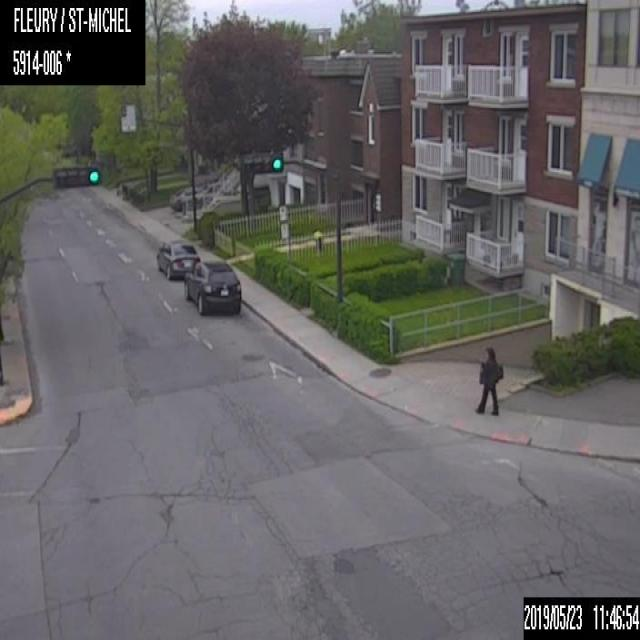pedestrian: (475, 345, 503, 415)
vehicle: (182, 259, 240, 314), (156, 240, 200, 280)
